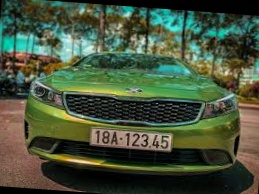Bien-so: (95, 122, 174, 144)
